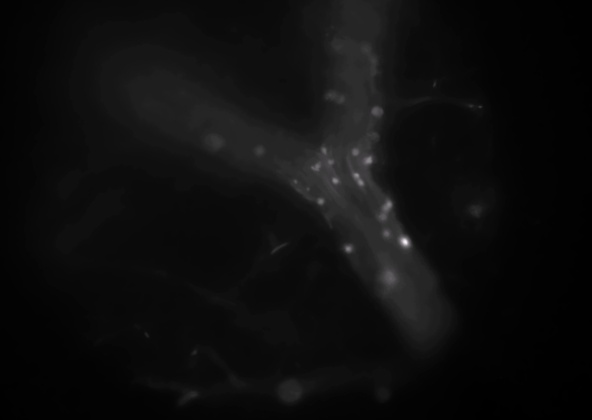cell: (397, 236, 411, 250), (369, 104, 383, 118), (348, 145, 362, 159), (362, 154, 376, 168), (317, 142, 331, 156), (310, 158, 324, 172), (323, 154, 337, 168), (327, 89, 341, 103), (350, 169, 364, 183), (332, 92, 346, 106), (354, 177, 368, 191), (341, 241, 355, 255), (382, 271, 396, 285), (380, 225, 394, 239), (381, 198, 395, 212), (375, 209, 389, 223), (377, 201, 391, 215), (313, 195, 327, 209), (289, 176, 303, 190), (253, 144, 267, 158), (208, 136, 222, 150), (358, 43, 372, 57), (366, 52, 380, 66), (333, 40, 347, 54), (328, 175, 342, 189), (367, 129, 381, 143)
